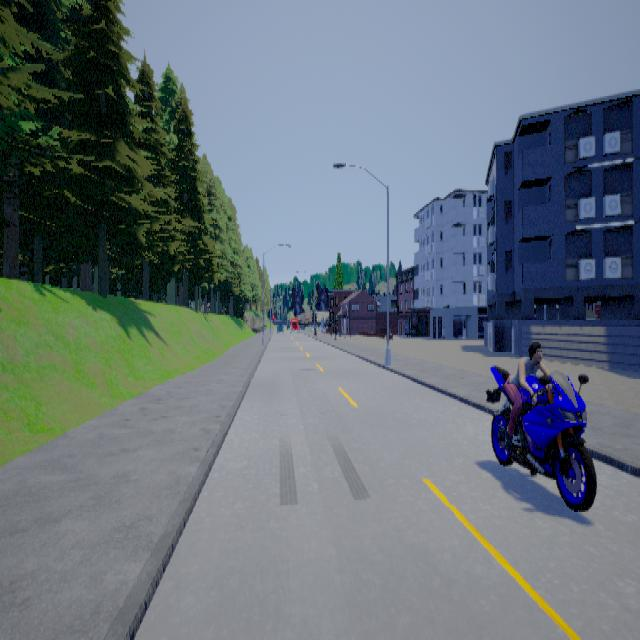motobike: (483, 337, 598, 510)
